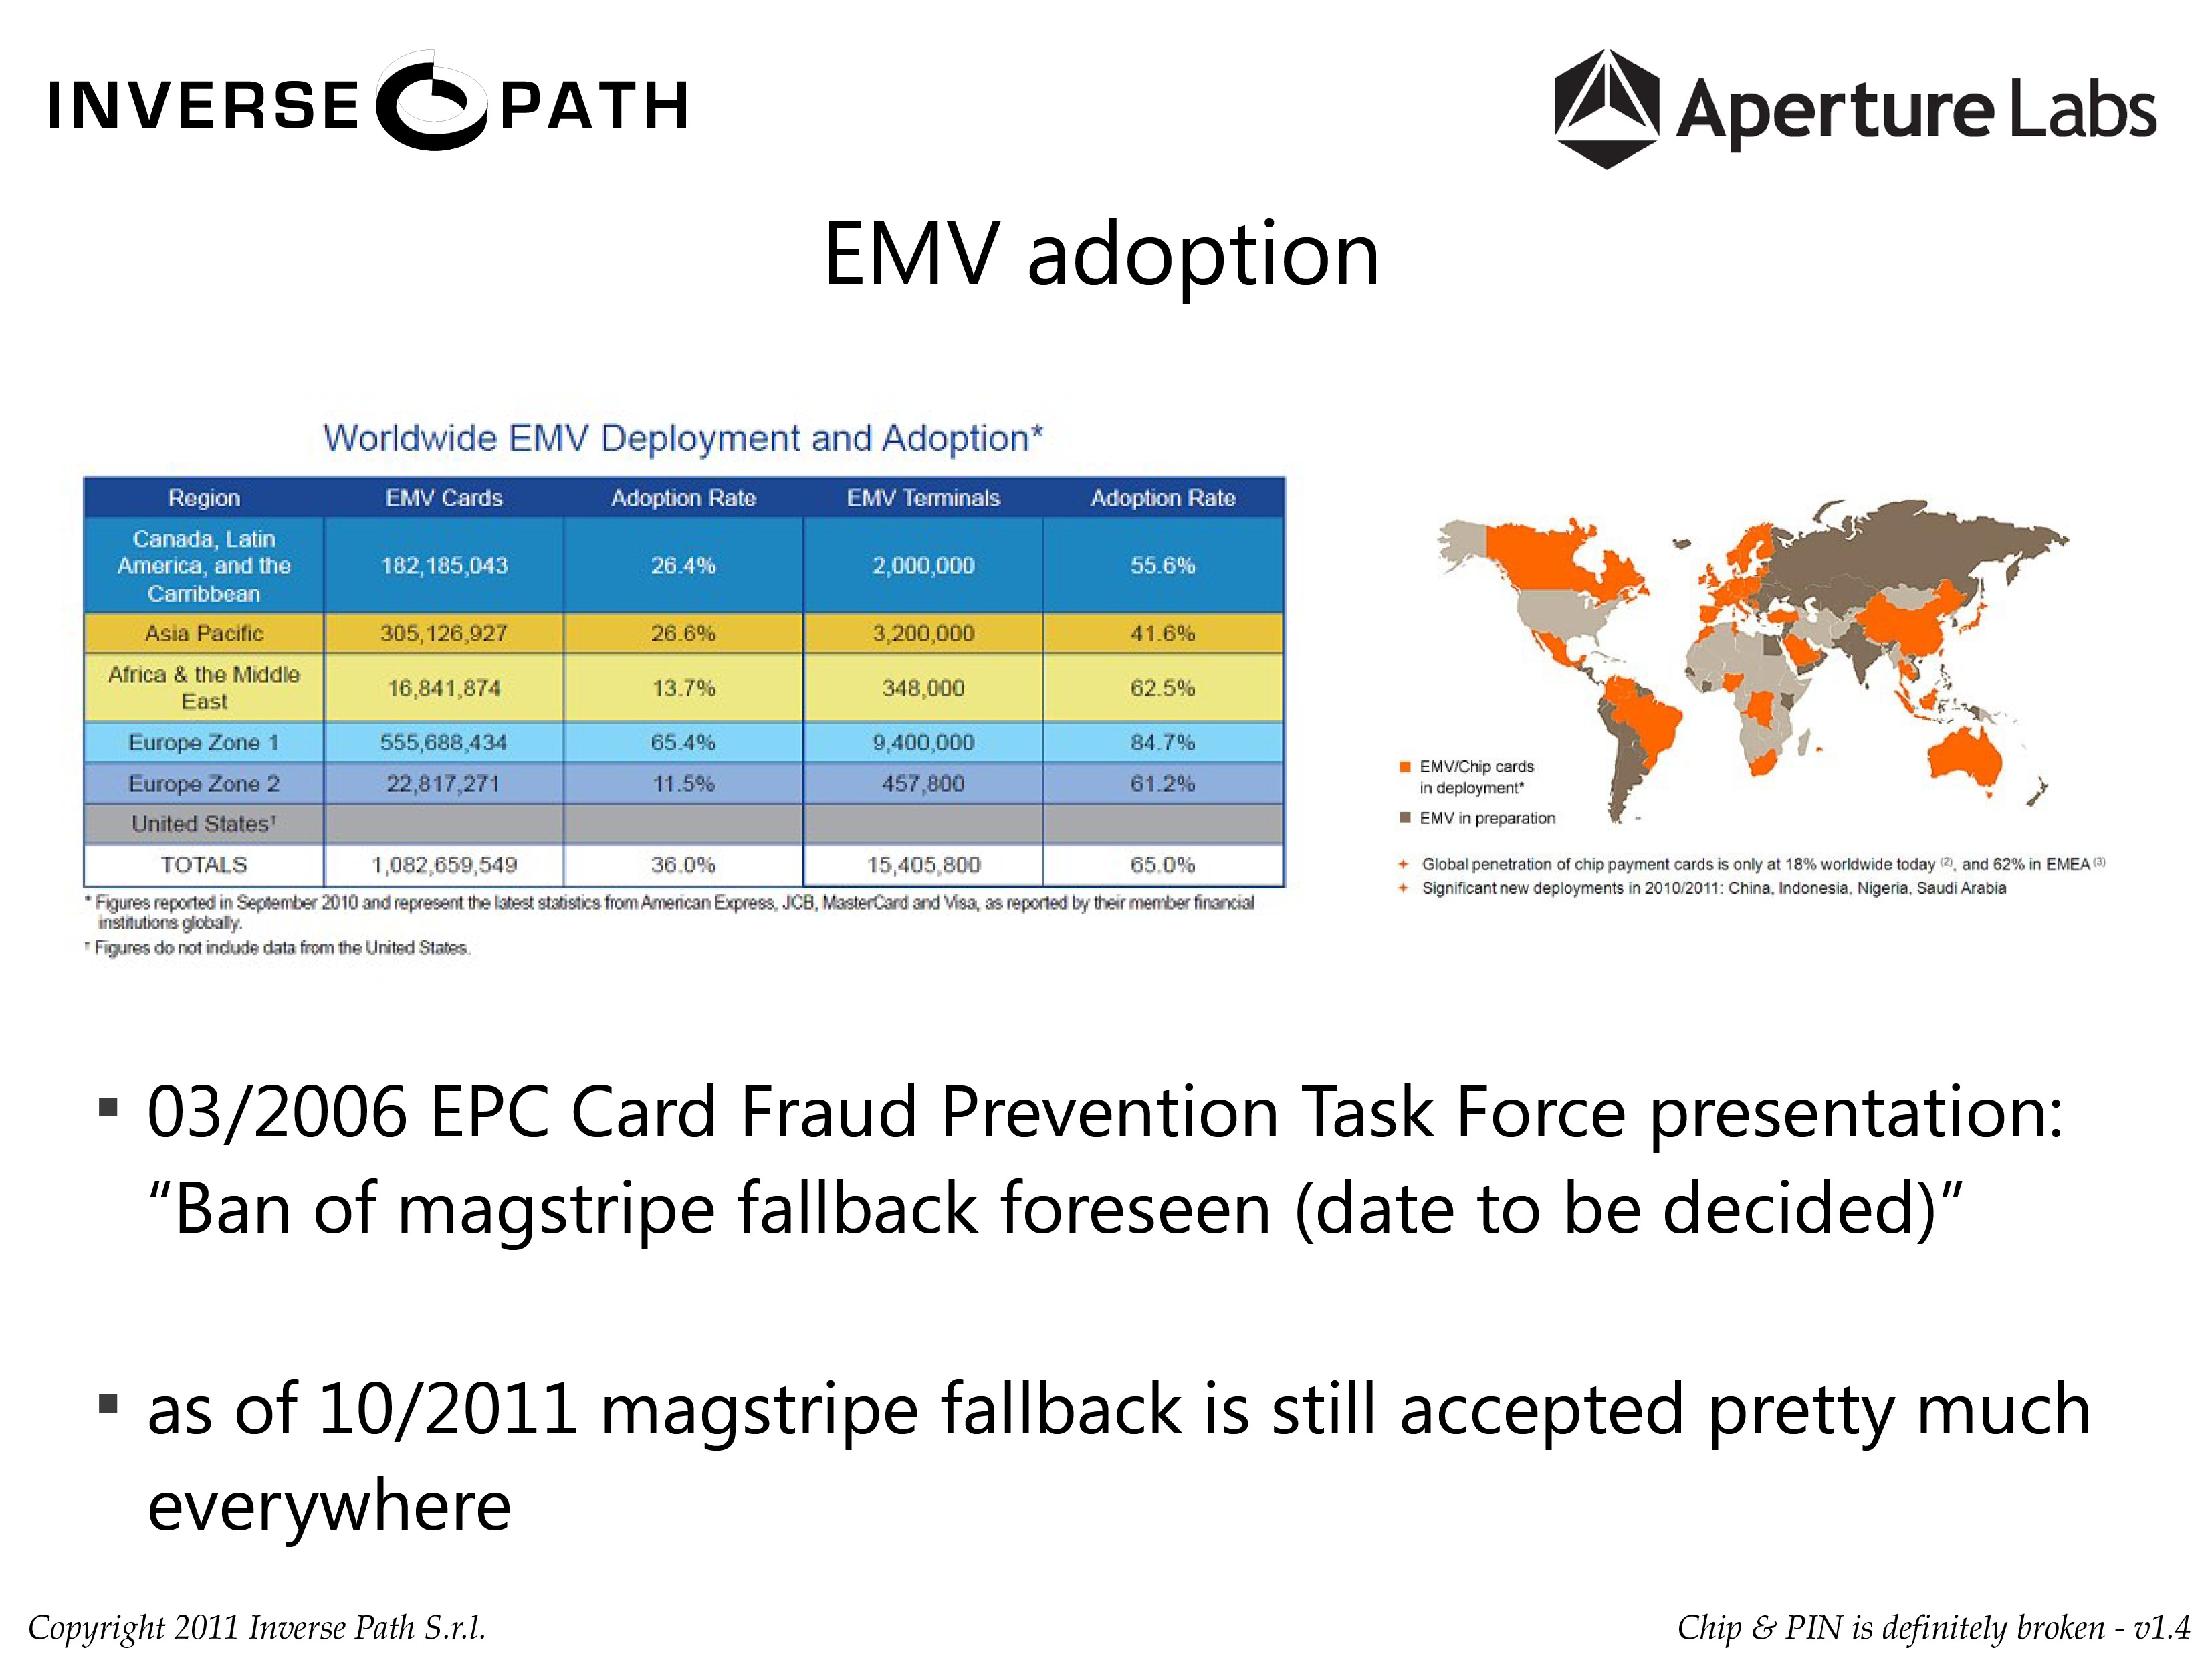caption: (291, 399, 1051, 470)
figure: (1584, 500, 2097, 822)
list: (63, 1054, 2123, 1562), (73, 880, 1288, 986), (1380, 841, 2135, 914), (1377, 752, 1580, 839)
section: (794, 200, 1387, 315)
table: (96, 475, 1274, 885)
text: (1526, 38, 2175, 192), (26, 51, 708, 155), (1666, 1595, 2196, 1653), (23, 1606, 513, 1651)
